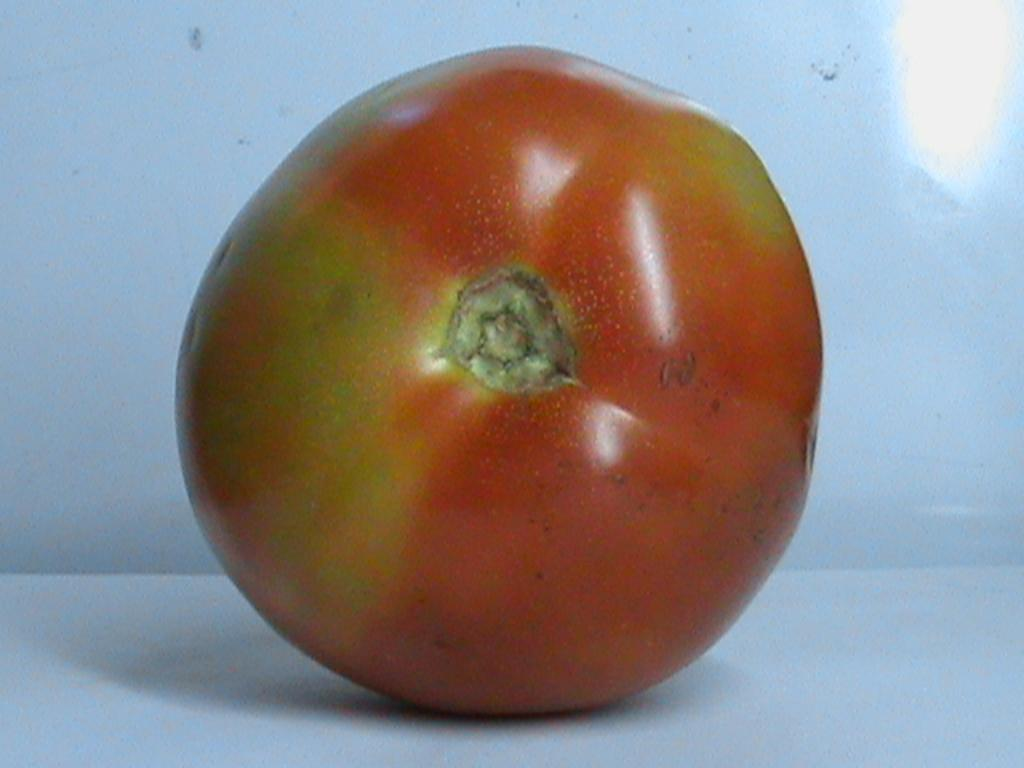bruise_discoloration: (175, 57, 473, 650), (679, 103, 791, 243)
surface_damage: (661, 352, 694, 386)
tomato: (178, 50, 821, 712)
